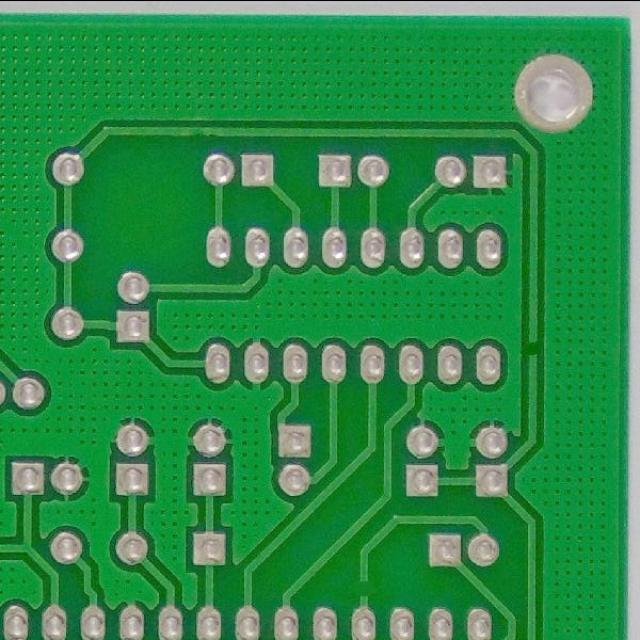Open_Circuit: (351, 570, 378, 602), (523, 333, 543, 365)
